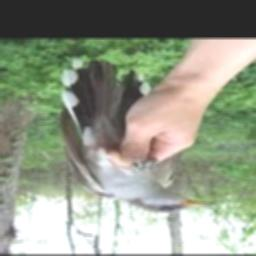Cuckoo: (60, 60, 215, 213)
